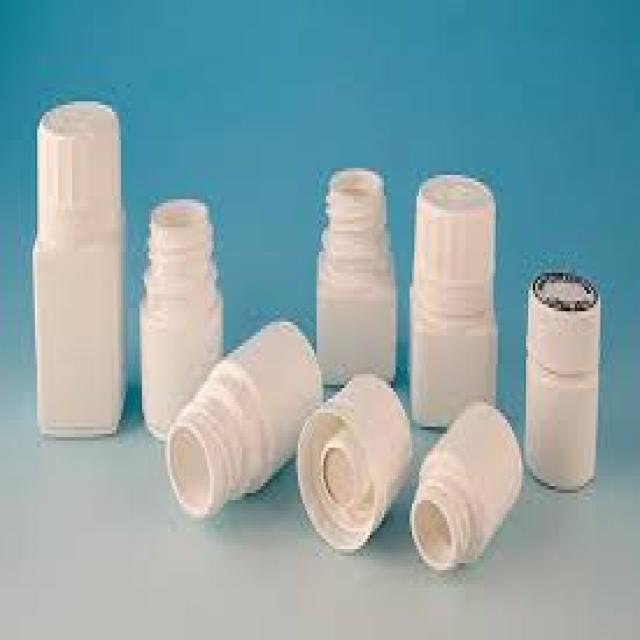Plastic: (34, 98, 128, 432), (166, 320, 325, 514), (412, 177, 499, 426), (298, 372, 412, 554), (141, 199, 220, 444), (410, 402, 522, 574), (522, 269, 602, 495), (316, 170, 396, 384)
